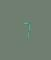seven: (19, 20, 30, 39)
